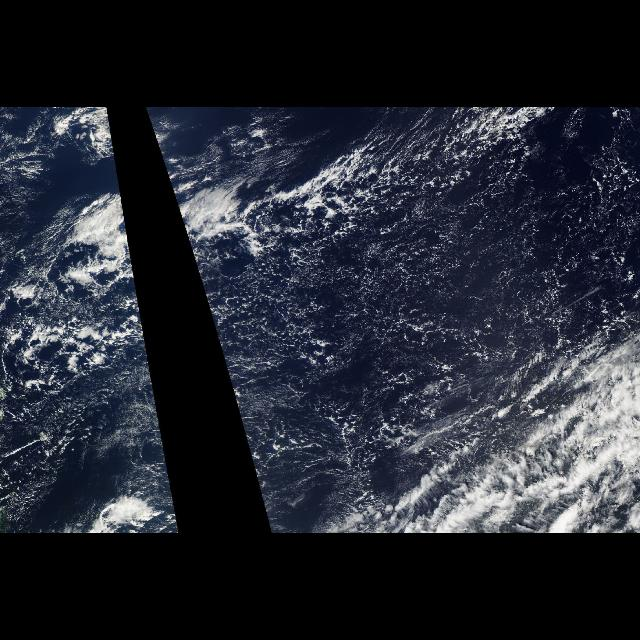Fish: (310, 383, 640, 527), (3, 156, 165, 447), (162, 156, 298, 374)
Gravel: (166, 116, 636, 446), (4, 174, 158, 414)
